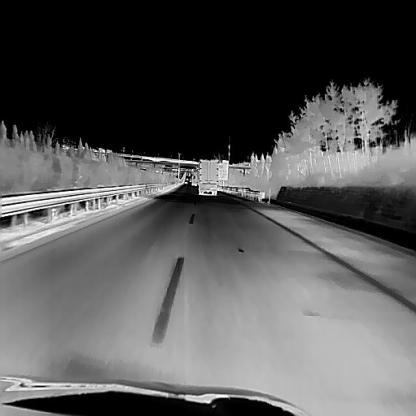truck: (196, 158, 219, 194), (191, 174, 196, 184)
